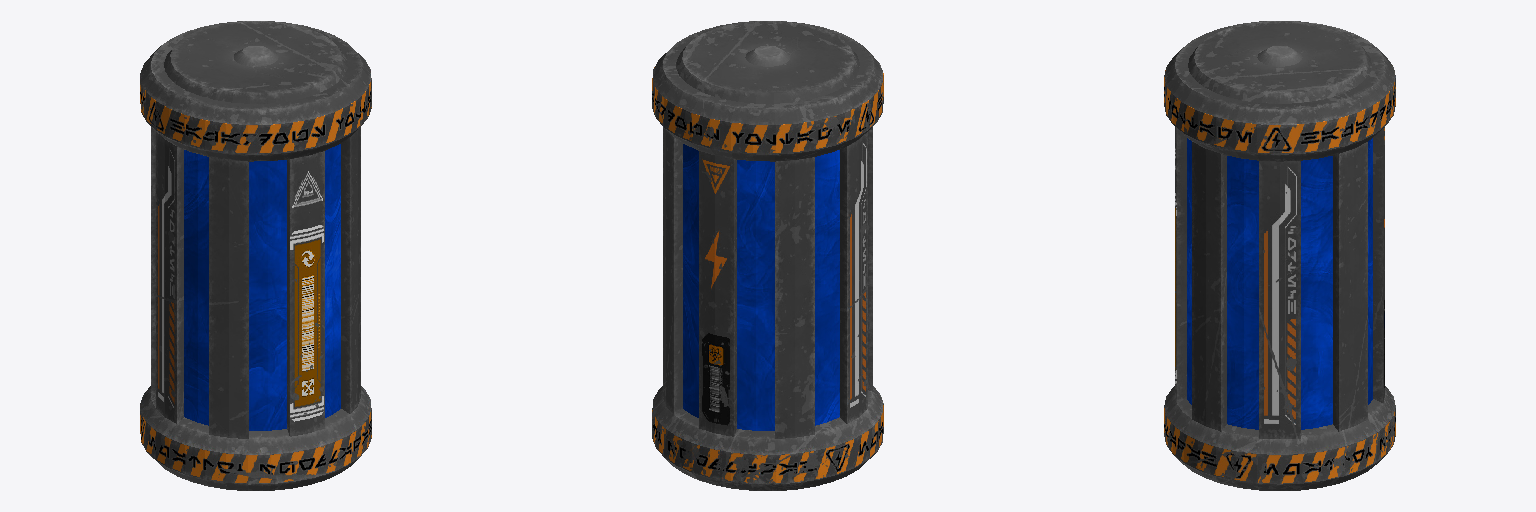
3 renders of one model, left to right at view 1: azimuth 30°, elevation 25°; view 2: azimuth 150°, elevation 25°; view 3: azimuth 270°, elevation 25°, orthographic.
Parts seen in each view (by area): view 1: EV_Power_Cell_Cylinder; view 2: EV_Power_Cell_Cylinder; view 3: EV_Power_Cell_Cylinder.
Boxes of the visible parts, x1=… form: EV_Power_Cell_Cylinder: x1=140, y1=21, x2=371, y2=490; EV_Power_Cell_Cylinder: x1=652, y1=21, x2=883, y2=490; EV_Power_Cell_Cylinder: x1=1164, y1=21, x2=1395, y2=490.
Bounding box in the file's own units: 2.2 × 4.29 × 2.2.
1 materials, 1 textured.